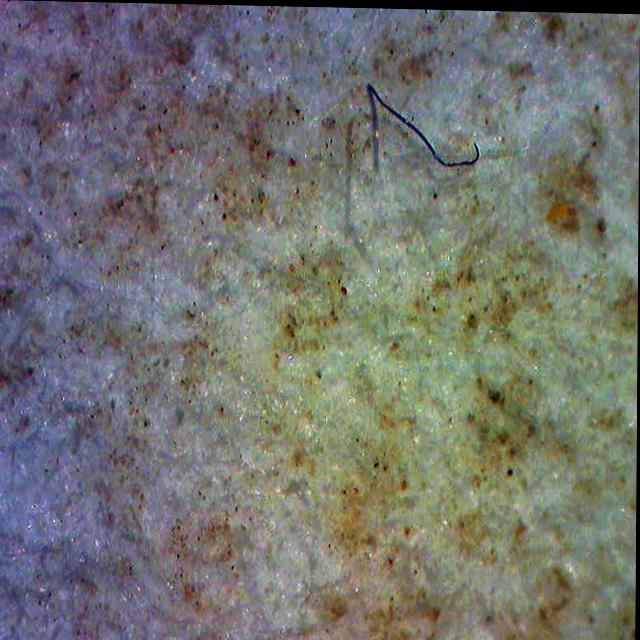microplastic: (366, 81, 480, 170)
